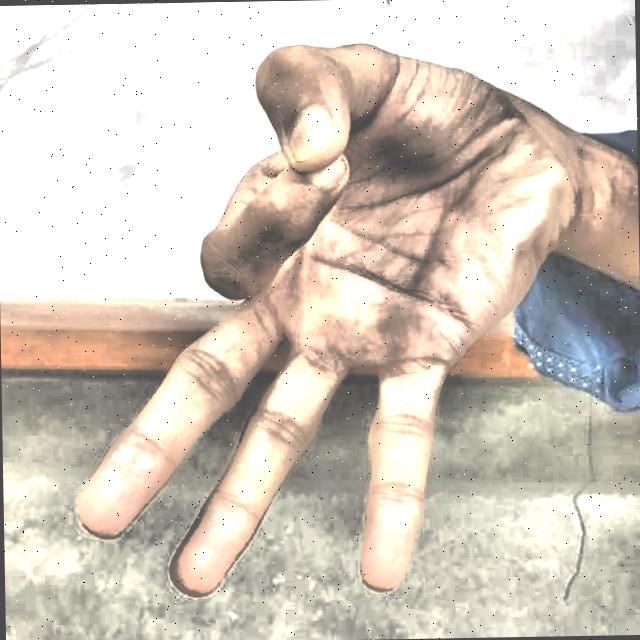Fa: (52, 22, 584, 620)
